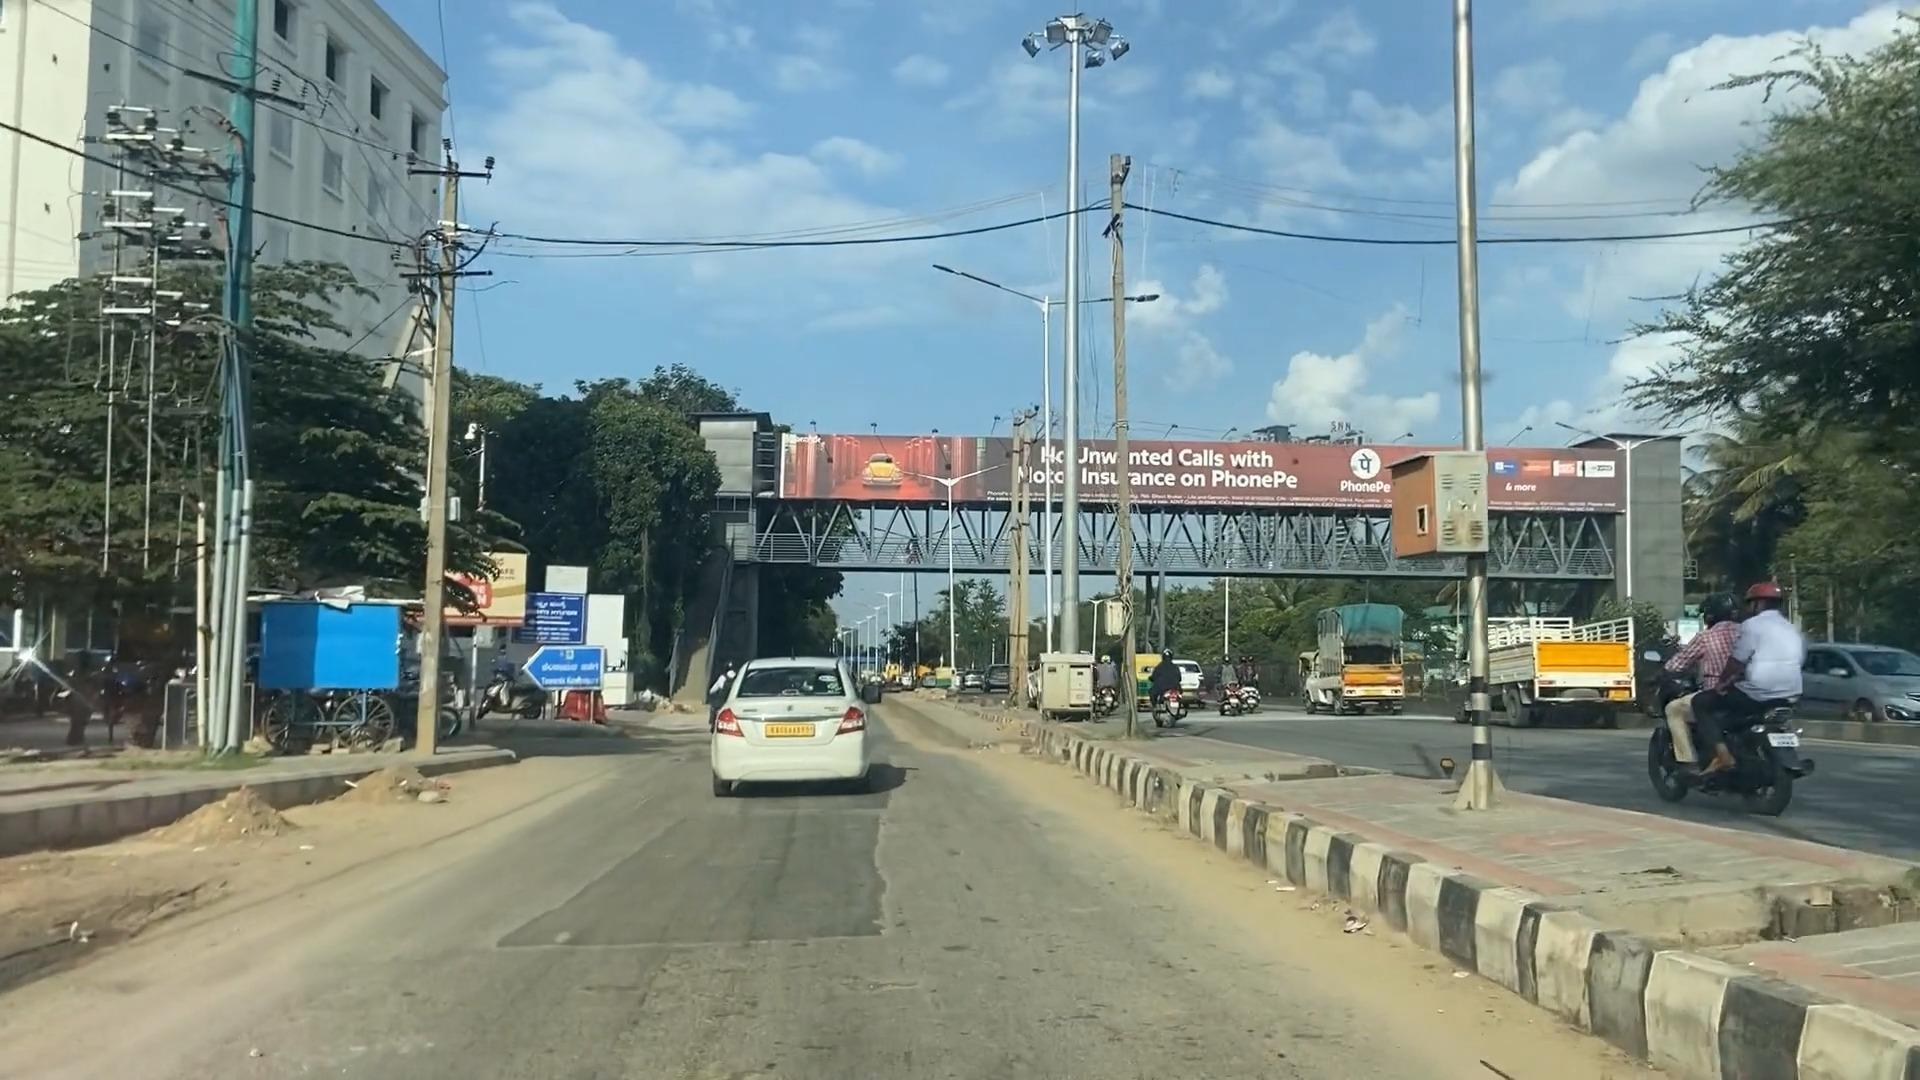LMV: (695, 642, 862, 802)
UnsurfacedRoad: (550, 853, 924, 942)
